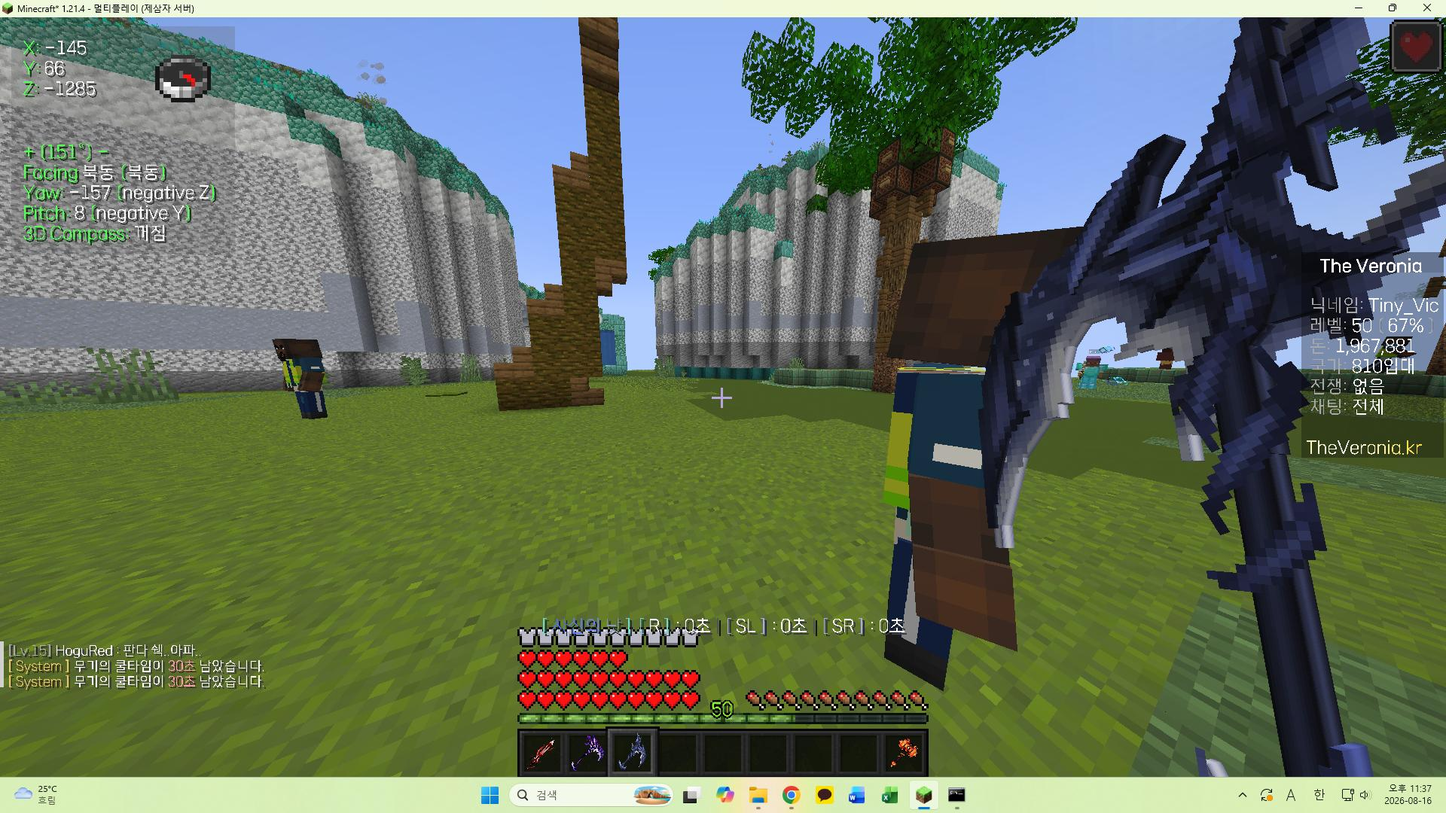Guardian: (884, 229, 1081, 688), (273, 339, 327, 419)
